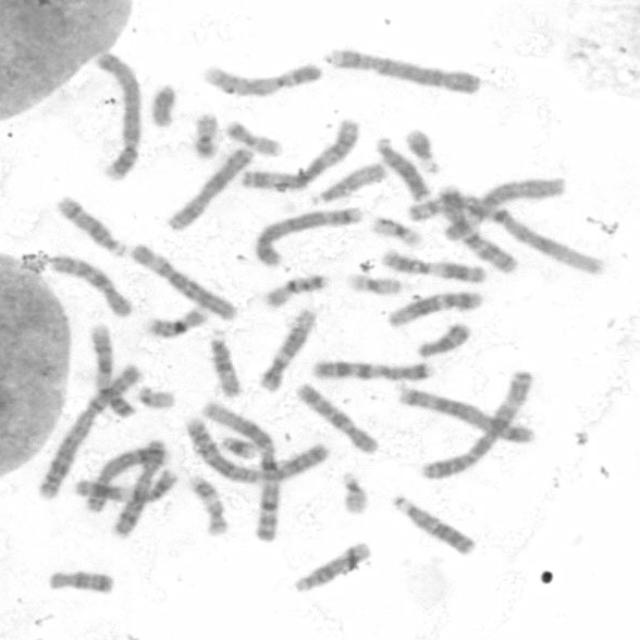A1: (404, 189, 608, 275), (196, 398, 282, 543)
A2: (34, 362, 142, 500), (185, 408, 329, 485)
A3: (414, 366, 538, 482), (238, 114, 362, 194)
B4: (322, 44, 484, 97), (87, 47, 145, 182)
B5: (389, 380, 536, 444), (249, 201, 366, 268)
C10: (292, 380, 381, 455), (45, 251, 136, 319)
C11: (72, 464, 181, 507), (378, 245, 488, 284)
C12: (255, 304, 318, 394), (383, 287, 486, 329)
C6: (435, 172, 567, 242), (126, 240, 238, 322)
C7: (431, 180, 521, 276), (309, 354, 437, 382)
C8: (79, 439, 169, 515), (104, 435, 168, 539)
C9: (196, 58, 323, 99), (86, 321, 138, 420)
D13: (386, 490, 479, 557), (371, 134, 432, 202)
D14: (51, 191, 131, 259), (288, 537, 374, 595)
D15: (305, 158, 386, 206), (204, 324, 243, 398)
E16: (259, 270, 331, 310), (143, 301, 210, 339)
E17: (185, 470, 231, 537)
E18: (413, 320, 472, 359), (44, 566, 116, 596)
F19: (367, 213, 424, 249), (343, 270, 403, 297)
F20: (222, 116, 282, 158), (187, 108, 223, 160)
G21: (401, 122, 443, 175), (214, 432, 259, 461)
G22: (335, 466, 371, 516), (133, 382, 177, 412)
X: (162, 142, 256, 233)
Y: (147, 80, 178, 127)
